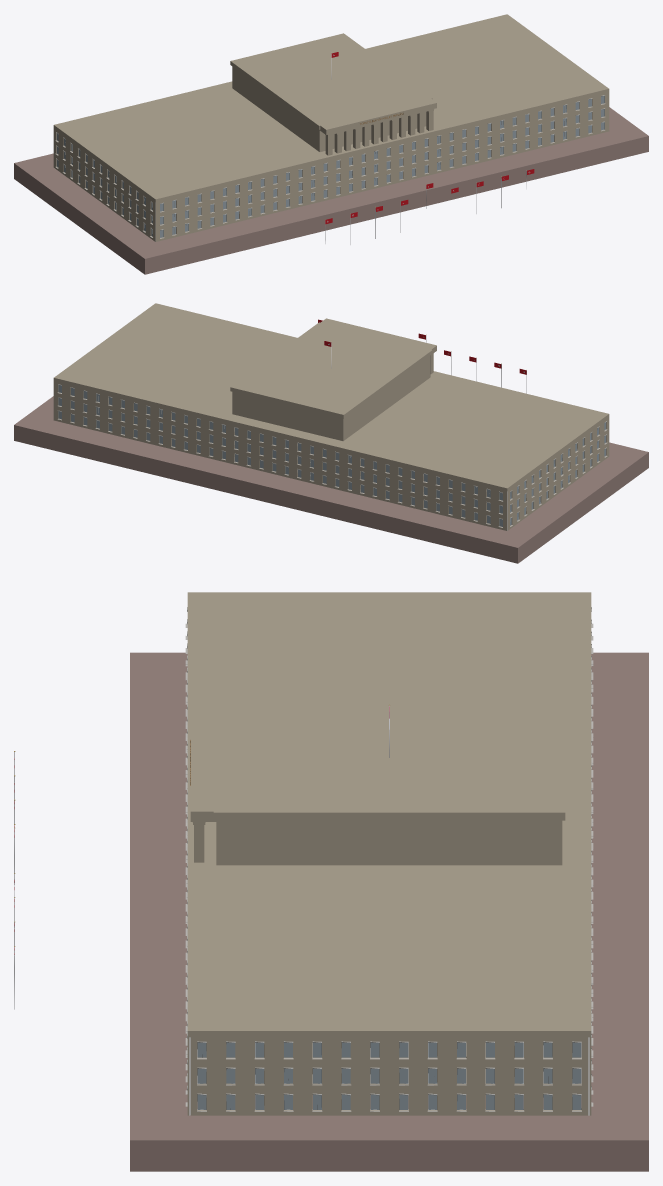
File: simge_meclis.glb
3 views of the same model, one above another, from view 1: azimuth 30°, elevation 25°; view 2: azimuth 150°, elevation 25°; view 3: azimuth 270°, elevation 25° (orthographic). The views are drawn at different scales.
Visible parts, largest first — view 1: Simge_Meclis.001; view 2: Simge_Meclis.001; view 3: Simge_Meclis.001.
Part boxes in pixels (x1=…): Simge_Meclis.001: x1=14, y1=14, x2=648, y2=274; Simge_Meclis.001: x1=14, y1=303, x2=648, y2=563; Simge_Meclis.001: x1=14, y1=592, x2=648, y2=1171.
Bounding box in the file's own units: 200 × 42.71 × 110.
